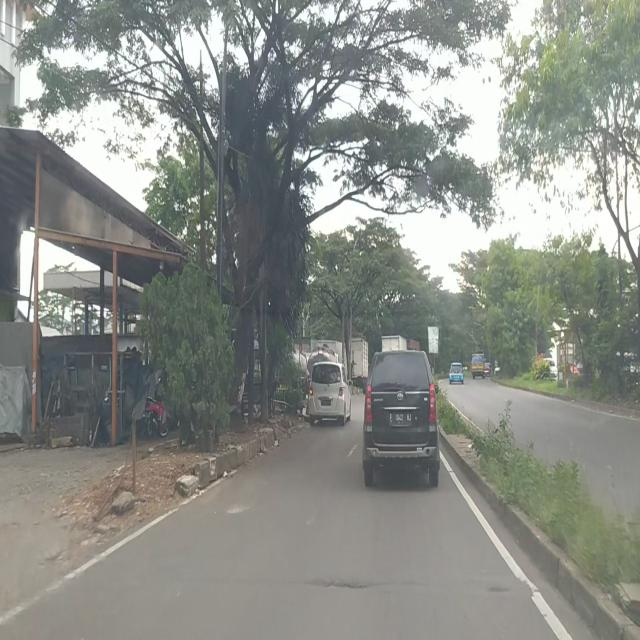Sewer Cover: (299, 581, 514, 593)
